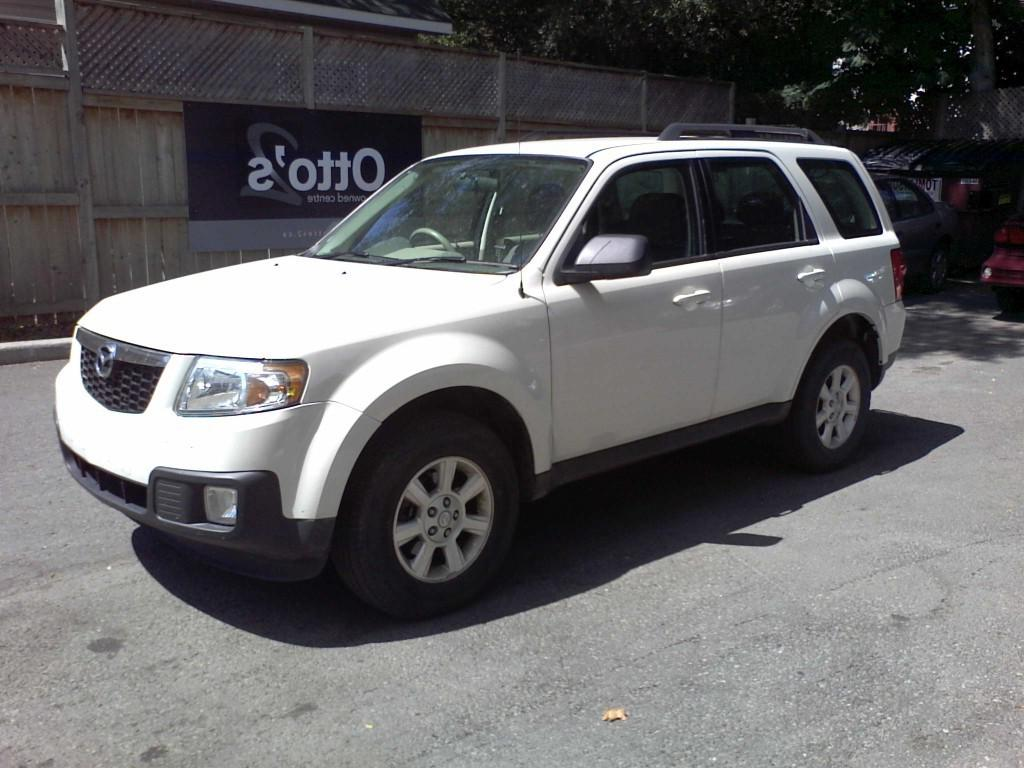Car: (7, 115, 926, 647)
